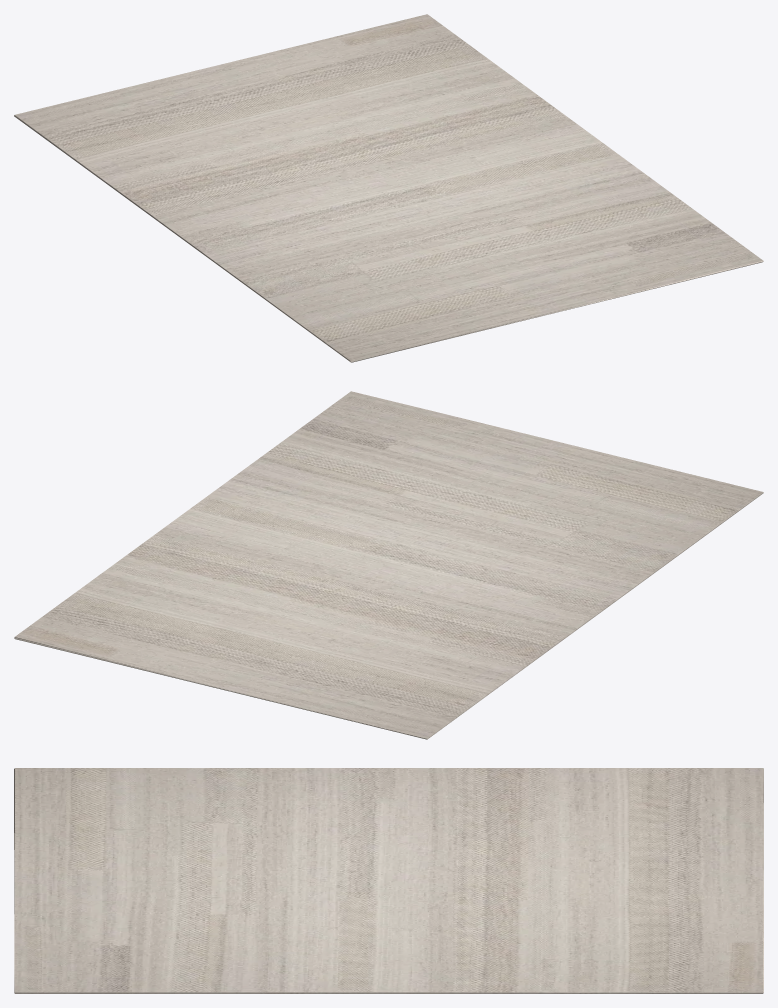
3 views of the same model, one above another, from view 1: azimuth 30°, elevation 25°; view 2: azimuth 150°, elevation 25°; view 3: azimuth 270°, elevation 25° (orthographic). The views are drawn at different scales.
Visible parts, largest first — view 1: ProcessedMeshNode; view 2: ProcessedMeshNode; view 3: ProcessedMeshNode.
Part boxes in pixels (box(x1,y1,x2,y2)): ProcessedMeshNode: box(14, 14, 763, 362); ProcessedMeshNode: box(14, 391, 763, 739); ProcessedMeshNode: box(14, 768, 763, 993).
Size of the model in its own units: 1.7 by 0.00821 by 2.4.
1 material, 1 textured.
